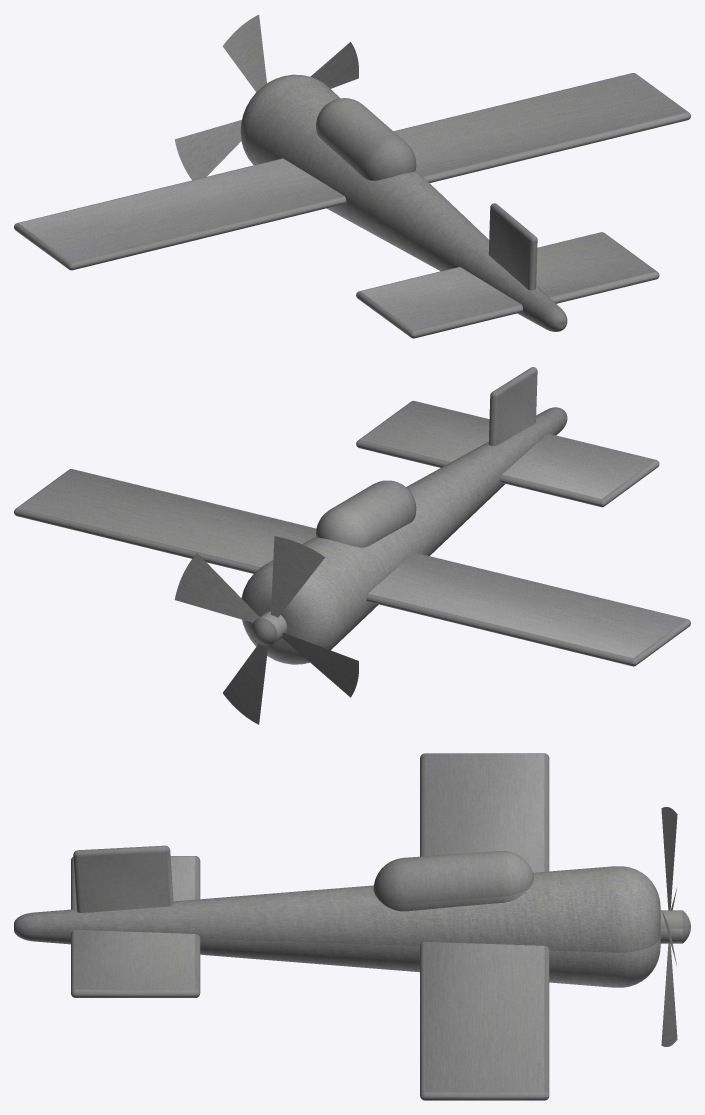
Rendered from SimplePlane.obj.
3 renders of one model, top to bottom at view 1: azimuth 30°, elevation 25°; view 2: azimuth 150°, elevation 25°; view 3: azimuth 270°, elevation 25°, orthographic. The views are drawn at different scales.
Parts seen in each view (by area): view 1: front_wings, body, back_wings, window, tail, blade_4, blade_3, blade_1; view 2: front_wings, body, back_wings, window, tail, blade_1, blade_3, blade_2, blade_4, center; view 3: body, front_wings, back_wings, window, tail, blade_2, blade_3, center.
Part boxes in pixels (x1,y1,x2,y2): front_wings: (14, 73, 690, 270); body: (240, 74, 567, 331); back_wings: (356, 232, 659, 338); window: (316, 98, 416, 180); tail: (488, 203, 537, 290); blade_4: (174, 120, 241, 180); blade_3: (222, 14, 266, 92); blade_1: (310, 42, 358, 88); front_wings: (14, 469, 690, 666); body: (241, 407, 567, 664); back_wings: (356, 400, 659, 507); window: (316, 480, 416, 547); tail: (488, 367, 537, 446); blade_1: (174, 553, 259, 622); blade_3: (271, 536, 324, 617); blade_2: (223, 643, 268, 724); blade_4: (281, 632, 358, 697); center: (251, 611, 287, 645); body: (14, 866, 660, 987); front_wings: (420, 753, 549, 1100); back_wings: (71, 856, 200, 997); window: (373, 851, 533, 911); tail: (73, 845, 173, 912); blade_2: (661, 943, 677, 1046); blade_3: (661, 807, 677, 910); center: (660, 910, 690, 943).
Size of the model in its own units: 12.5 by 3.7 by 10.47.
